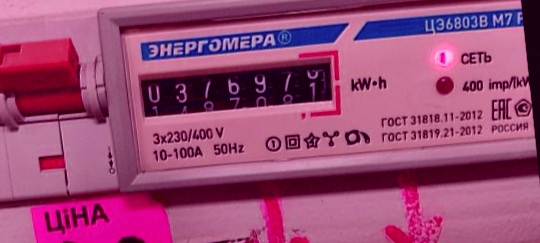0: (146, 80, 163, 103)
1: (307, 79, 318, 101)
3: (174, 80, 189, 102)
6: (225, 70, 242, 95)
7: (199, 74, 216, 99), (279, 66, 295, 90)
9: (252, 70, 268, 93)
screen: (128, 44, 348, 138)
